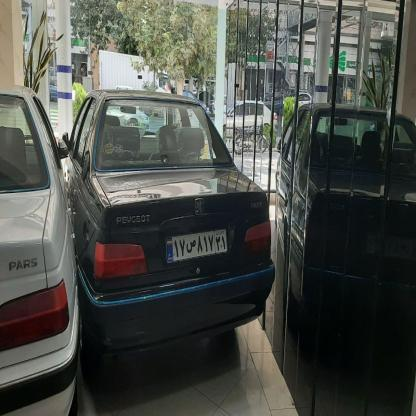Car: (70, 74, 281, 337), (281, 103, 416, 312), (0, 82, 80, 382), (215, 94, 281, 149)
